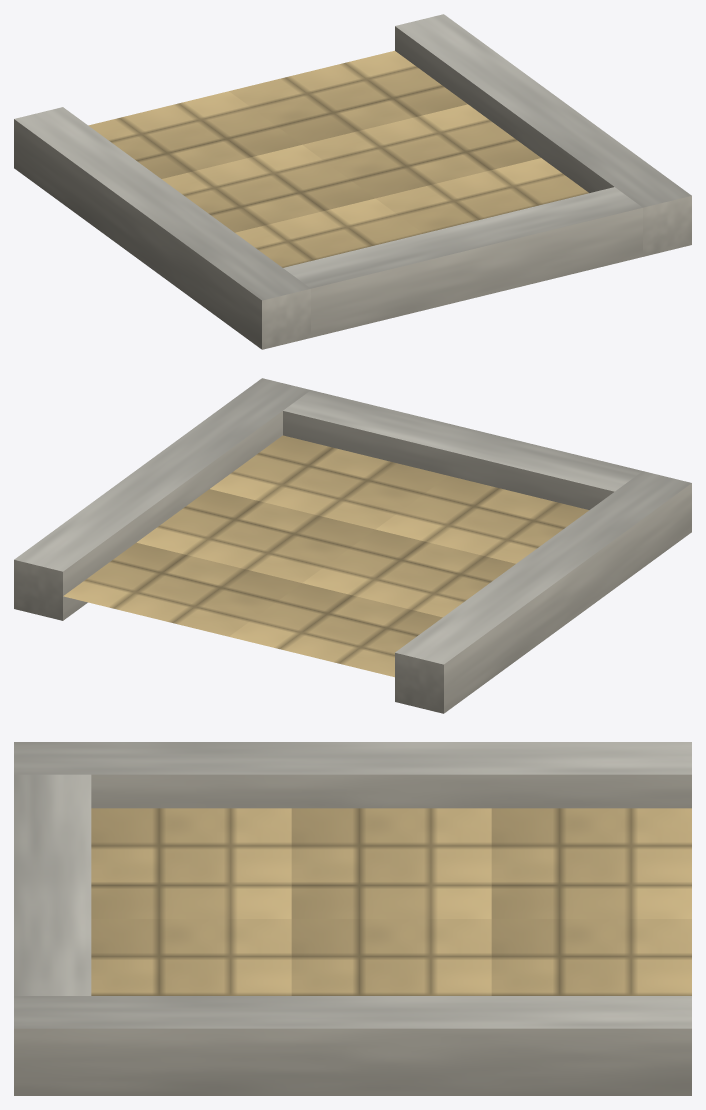
Rendered from walk_path_end_01.glb.
3 views of the same model, one above another, from view 1: azimuth 30°, elevation 25°; view 2: azimuth 150°, elevation 25°; view 3: azimuth 270°, elevation 25° (orthographic). The views are drawn at different scales.
Parts seen in each view (by area): view 1: walk_path_end_01; view 2: walk_path_end_01; view 3: walk_path_end_01.
Part boxes in pixels (x1,y1,x2,y2): walk_path_end_01: (14,14,691,349); walk_path_end_01: (14,378,691,713); walk_path_end_01: (14,742,691,1095).
Size of the model in its own units: 2.19 by 0.24 by 2.19.
Materials: 1 (1 with a texture image).
